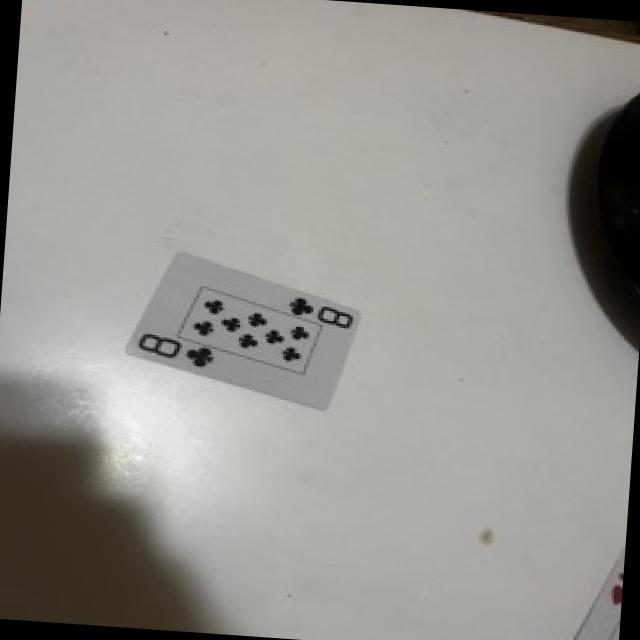8 of clubs: (126, 253, 359, 409)
